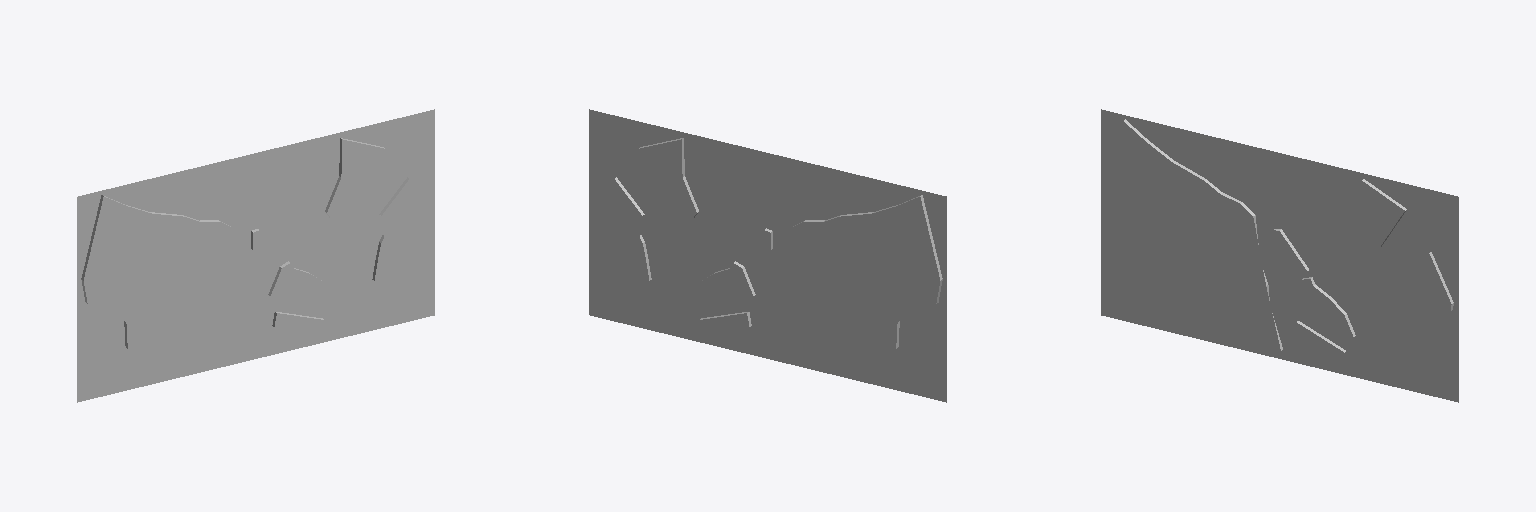
File: anorganik2.obj
3 renders of one model, left to right at view 1: azimuth 30°, elevation 25°; view 2: azimuth 150°, elevation 25°; view 3: azimuth 330°, elevation 25°, orthographic.
Visible parts, largest first — view 1: Circle; view 2: Circle; view 3: Circle.
Part boxes in pixels (bbox=[...]): Circle: bbox=[77, 109, 434, 402]; Circle: bbox=[589, 109, 946, 402]; Circle: bbox=[1101, 109, 1458, 402].
Bounding box in the file's own units: 9.54 × 5.26 × 0.2081.